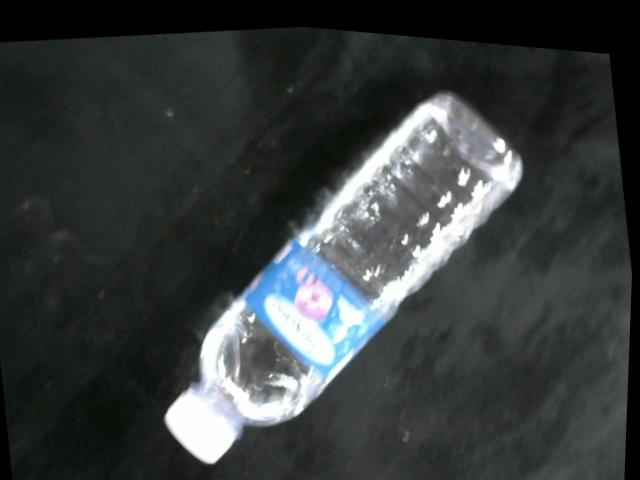bottle: (166, 83, 526, 464)
